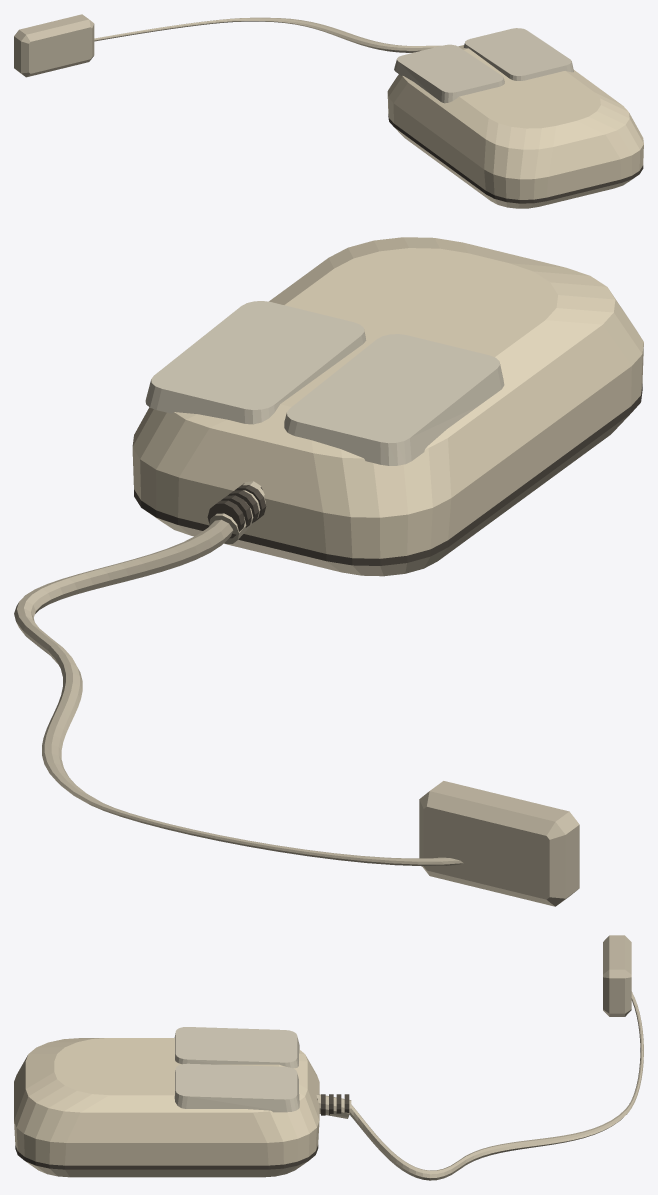
Rendered from retro-mouse.glb.
3 views of the same model, one above another, from view 1: azimuth 30°, elevation 25°; view 2: azimuth 150°, elevation 25°; view 3: azimuth 270°, elevation 25° (orthographic). The views are drawn at different scales.
Parts seen in each view (by area): view 1: Mouse cream shell, Mouse palm rest, Mouse serial plug, Mouse left button top, Mouse right button top, Mouse cable, Mouse shell seam, Mouse lower chassis, Mouse left button, Mouse right button; view 2: Mouse cream shell, Mouse palm rest, Mouse serial plug, Mouse right button top, Mouse left button top, Mouse cable, Mouse left button, Mouse shell seam, Mouse lower chassis, Mouse right button, Mouse cable relief ribs; view 3: Mouse cream shell, Mouse palm rest, Mouse right button top, Mouse left button top, Mouse cable, Mouse serial plug, Mouse lower chassis, Mouse right button, Mouse shell seam, Mouse left button, Mouse cable relief ribs, Mouse cable strain relief.
Part boxes in pixels (x1,y1,x2,y2): Mouse cream shell: (387,45,643,199); Mouse palm rest: (459,48,600,128); Mouse serial plug: (14,14,94,77); Mouse left button top: (397,44,503,92); Mouse right button top: (465,28,571,75); Mouse cable: (94,17,441,52); Mouse shell seam: (388,114,643,203); Mouse lower chassis: (394,127,633,208); Mouse left button: (394,59,504,103); Mouse right button: (463,43,573,80); Mouse cream shell: (132,237,643,558); Mouse palm rest: (280,248,557,406); Mouse serial plug: (419,781,579,906); Mouse right button top: (151,301,364,409); Mouse left button top: (287,334,499,443); Mouse cable: (14,519,463,866); Mouse left button: (284,364,504,465); Mouse shell seam: (134,384,642,565); Mouse lower chassis: (146,414,629,576); Mouse right button: (145,331,366,424); Mouse cable relief ribs: (207,483,266,538); Mouse cream shell: (14,1038,319,1165); Mouse palm rest: (54,1038,278,1095); Mouse right button top: (175,1063,297,1099); Mouse left button top: (175,1027,297,1062); Mouse cable: (349,991,643,1180); Mouse serial plug: (603,935,631,1016); Mouse lower chassis: (25,1161,307,1177); Mouse right button: (174,1070,299,1112); Mouse shell seam: (15,1145,318,1169); Mouse left button: (174,1033,299,1068); Mouse cable relief ribs: (317,1094,349,1115); Mouse cable strain relief: (316,1094,351,1118).
Size of the model in its own units: 1.83 by 0.3659 by 2.41.
